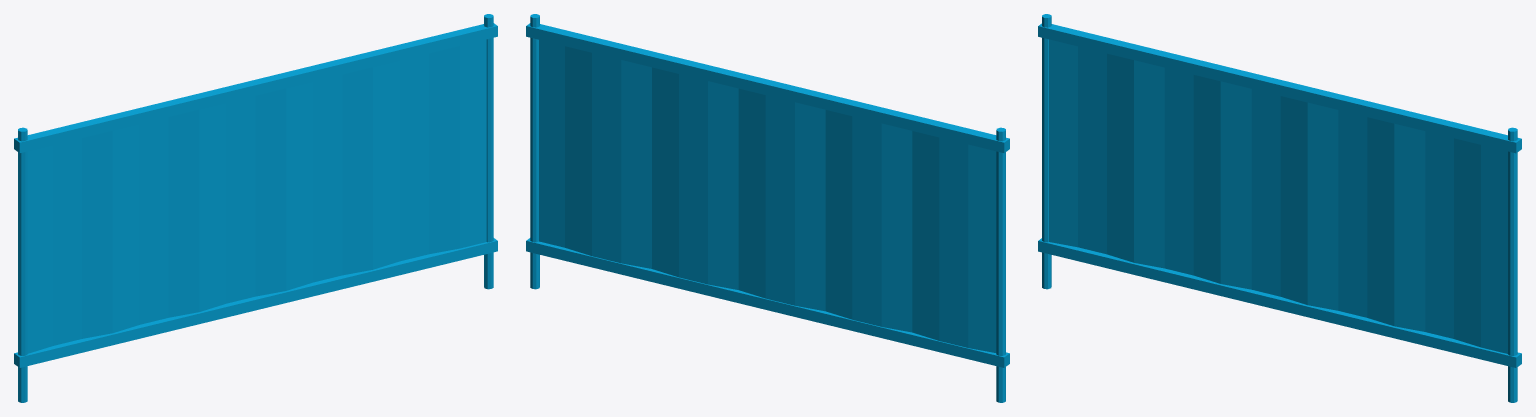
Rendered from Worksite_Fence_Lod0.fbx.
3 renders of one model, left to right at view 1: azimuth 30°, elevation 25°; view 2: azimuth 150°, elevation 25°; view 3: azimuth 330°, elevation 25°, orthographic.
Visible parts, largest first — view 1: Worksite_Fence_Lod0; view 2: Worksite_Fence_Lod0; view 3: Worksite_Fence_Lod0.
Part boxes in pixels (<box>): Worksite_Fence_Lod0: <box>14,14,497,402</box>; Worksite_Fence_Lod0: <box>526,14,1009,402</box>; Worksite_Fence_Lod0: <box>1038,14,1521,402</box>.
Bounding box in the file's own units: 190 × 103 × 3.89.
